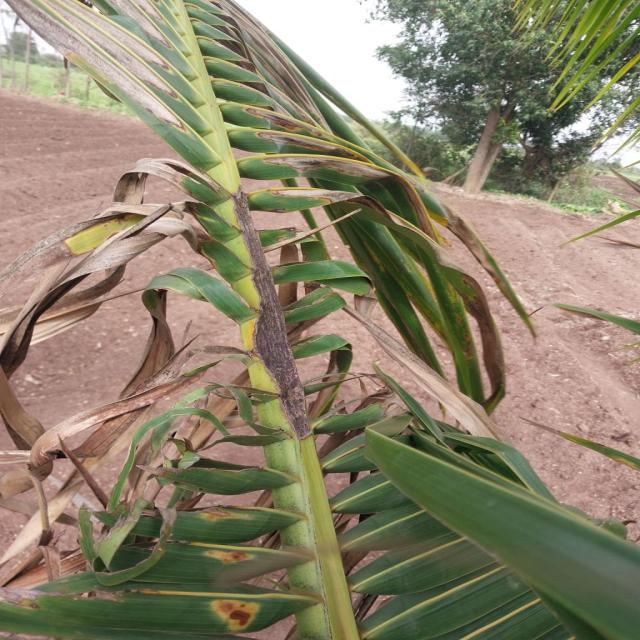leaf rot: (7, 138, 503, 610)
